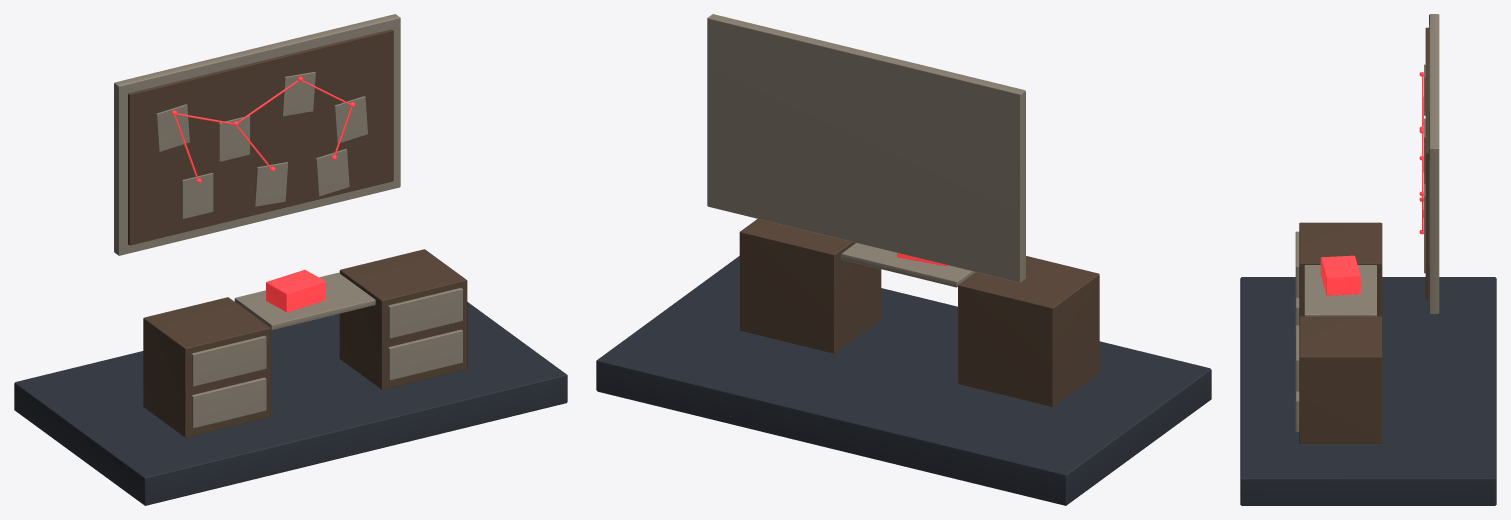
Rendered from webtoon-prop-noir-evidence-pinboard-cabinet-v31.glb.
The picture shows the model from 3 angles, left to right: view 1: azimuth 30°, elevation 25°; view 2: azimuth 150°, elevation 25°; view 3: azimuth 270°, elevation 25°; orthographic projection. The views are drawn at different scales.
Parts seen in each view (by area): view 1: PropV31_V31Prop2_NoirBoard_MainChassis, PropV31_V31Prop2_NoirBoard_DatumDeck, PropV31_V31Prop2_NoirBoard_HardwareTrim, PropV31_V31Prop2_NoirBoard_NarrativeClue; view 2: PropV31_V31Prop2_NoirBoard_DatumDeck, PropV31_V31Prop2_NoirBoard_HardwareTrim, PropV31_V31Prop2_NoirBoard_MainChassis; view 3: PropV31_V31Prop2_NoirBoard_DatumDeck, PropV31_V31Prop2_NoirBoard_MainChassis, PropV31_V31Prop2_NoirBoard_HardwareTrim, PropV31_V31Prop2_NoirBoard_NarrativeClue.
Part boxes in pixels (x1,y1,x2,y2): PropV31_V31Prop2_NoirBoard_MainChassis: (128,29,467,437); PropV31_V31Prop2_NoirBoard_DatumDeck: (14,302,567,505); PropV31_V31Prop2_NoirBoard_HardwareTrim: (114,14,462,428); PropV31_V31Prop2_NoirBoard_NarrativeClue: (171,76,354,312); PropV31_V31Prop2_NoirBoard_DatumDeck: (596,256,1211,505); PropV31_V31Prop2_NoirBoard_HardwareTrim: (707,14,1025,287); PropV31_V31Prop2_NoirBoard_MainChassis: (739,219,1099,407); PropV31_V31Prop2_NoirBoard_DatumDeck: (1240,277,1496,505); PropV31_V31Prop2_NoirBoard_MainChassis: (1299,27,1428,444); PropV31_V31Prop2_NoirBoard_HardwareTrim: (1295,14,1439,431); PropV31_V31Prop2_NoirBoard_NarrativeClue: (1320,72,1423,295).
Size of the model in its own units: 2.76 by 2.07 by 1.48.
